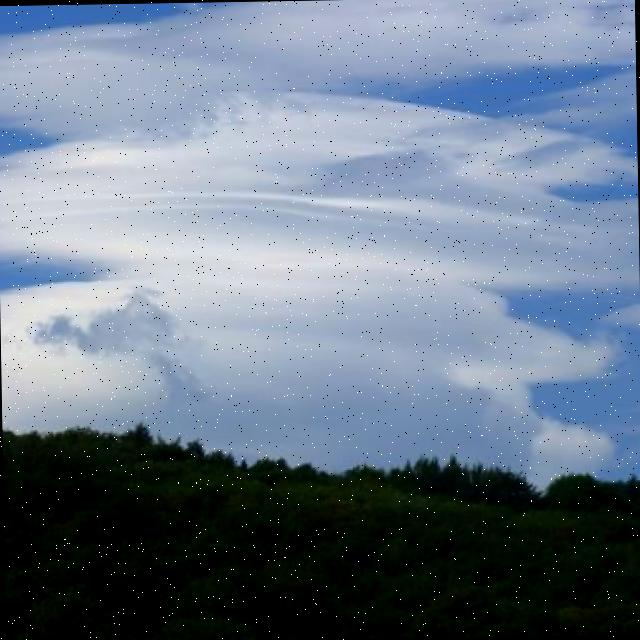Ac: (1, 8, 640, 395)
